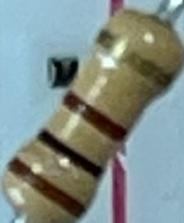Black: (31, 125, 108, 184)
Brown: (5, 155, 89, 221), (58, 87, 131, 147)
Side-Gold: (94, 26, 178, 92)
